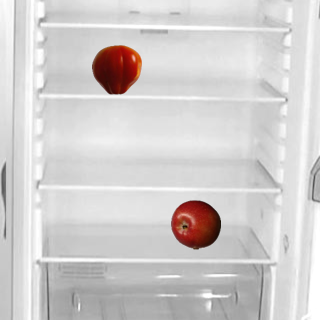Apple Braeburn: (170, 199, 220, 249)
Tomato 1: (91, 44, 141, 94)
